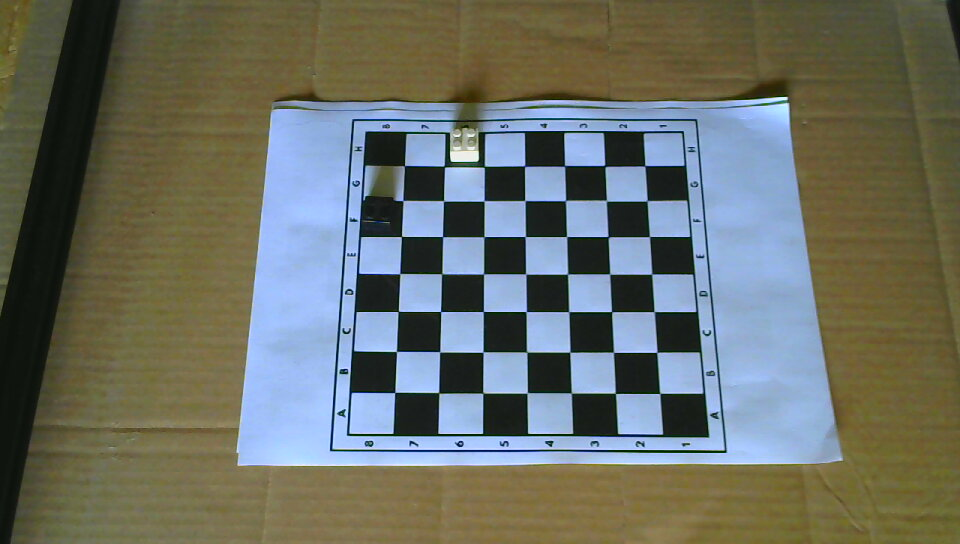bp: (361, 193, 395, 234)
wp: (449, 125, 480, 165)
